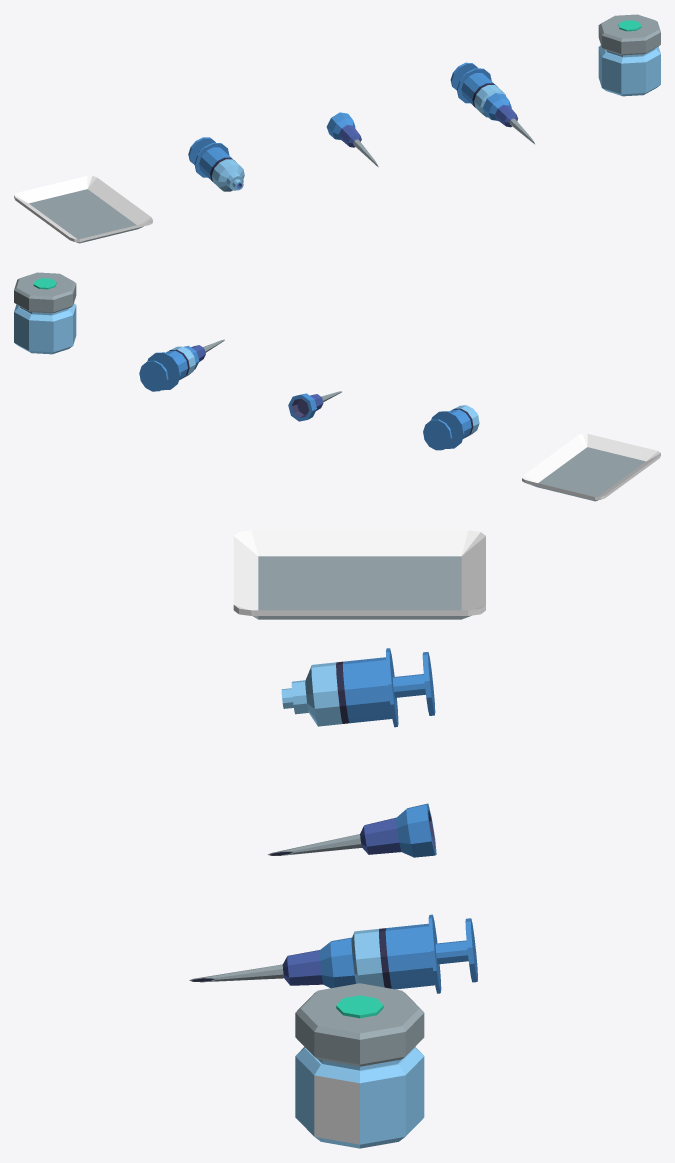
File: Props.glb
The picture shows the model from 3 angles, top to bottom: view 1: azimuth 30°, elevation 25°; view 2: azimuth 150°, elevation 25°; view 3: azimuth 270°, elevation 25°; orthographic projection. The views are drawn at different scales.
Visible parts, largest first — view 1: Tablet, Vaccine_A, Syringe_Needle, Syringe, Needle; view 2: Tablet, Vaccine_A, Syringe_Needle, Syringe, Needle; view 3: Tablet, Vaccine_A, Syringe_Needle, Syringe, Needle.
Part boxes in pixels (x1,y1,x2,y2): Tablet: (14,175,152,243); Vaccine_A: (598,14,660,96); Syringe_Needle: (450,62,534,144); Syringe: (188,137,244,191); Needle: (326,112,378,167); Tablet: (522,433,660,501); Vaccine_A: (14,272,76,354); Syringe_Needle: (139,339,224,391); Syringe: (423,405,479,450); Needle: (288,391,341,421); Tablet: (233,530,485,619); Vaccine_A: (295,983,424,1148); Syringe_Needle: (189,914,477,993); Syringe: (281,648,435,727); Needle: (268,803,436,857).
Size of the model in its own units: 4.5 by 0.4197 by 0.9422.
1 material, 1 textured.
